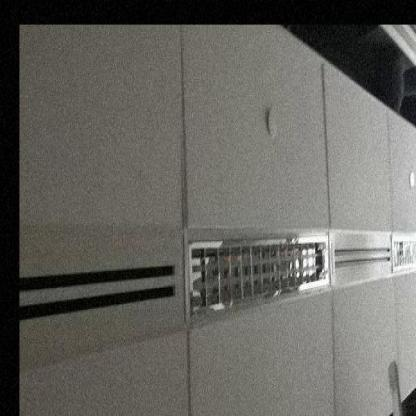light_off: (184, 209, 332, 324), (386, 216, 415, 298)
